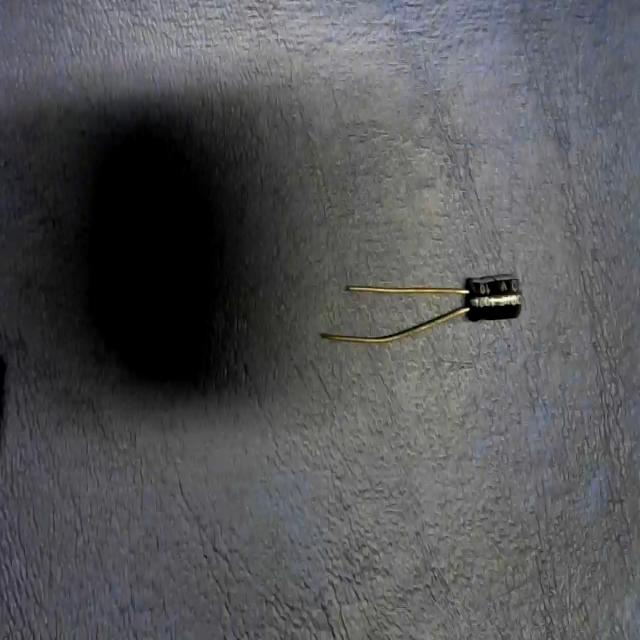capacitor: (319, 274, 523, 350)
